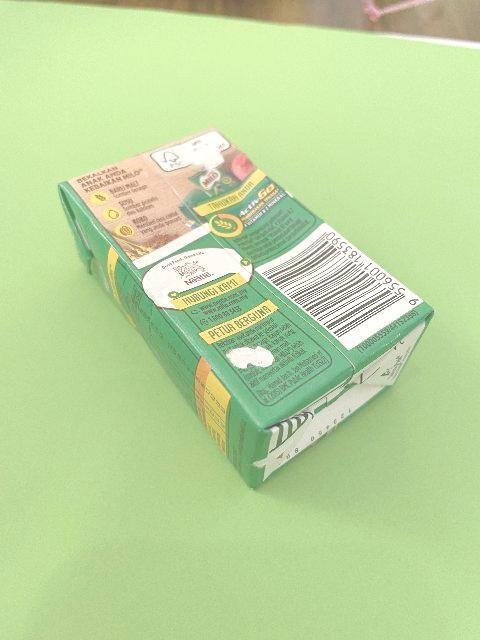drinkpack: (56, 122, 436, 494)
